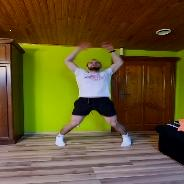jumping_jacks: (43, 35, 142, 153)
